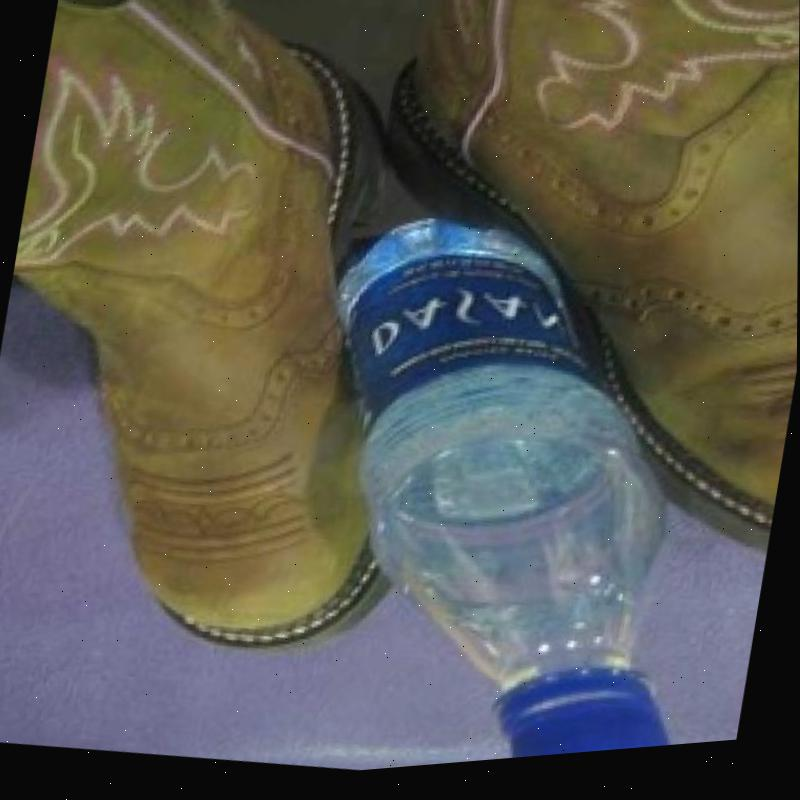botella: (256, 185, 761, 783)
